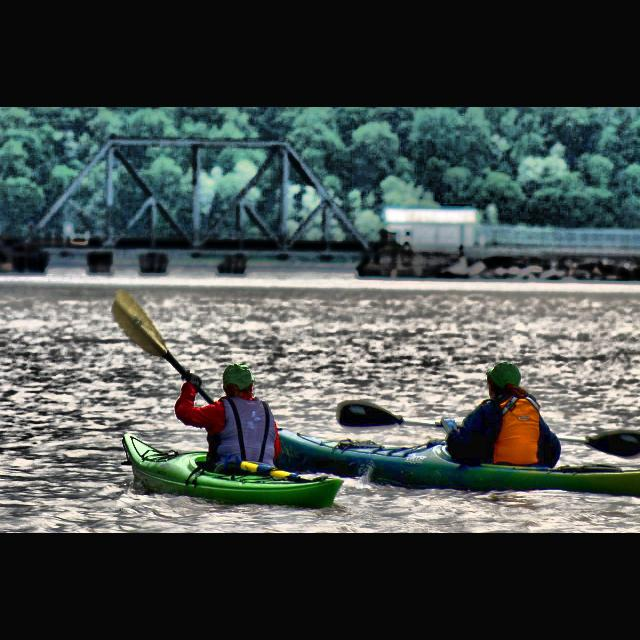kayak: (268, 424, 640, 500), (120, 434, 346, 511)
